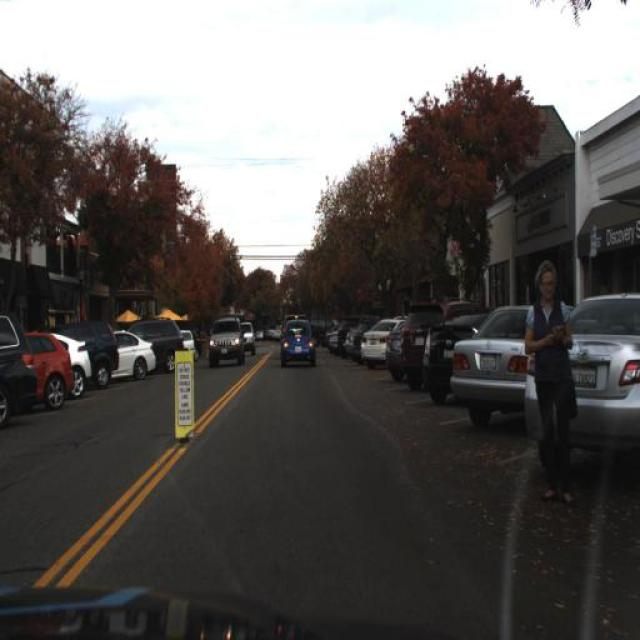car: (523, 291, 639, 467), (447, 299, 575, 436), (399, 299, 492, 397), (419, 304, 493, 401), (16, 330, 76, 410), (1, 311, 38, 434), (123, 313, 185, 375), (68, 322, 120, 388), (48, 327, 93, 398), (360, 312, 410, 363), (108, 329, 156, 380), (380, 313, 411, 382), (206, 314, 242, 365), (279, 318, 315, 362)
trafficLight: (524, 258, 580, 513)
